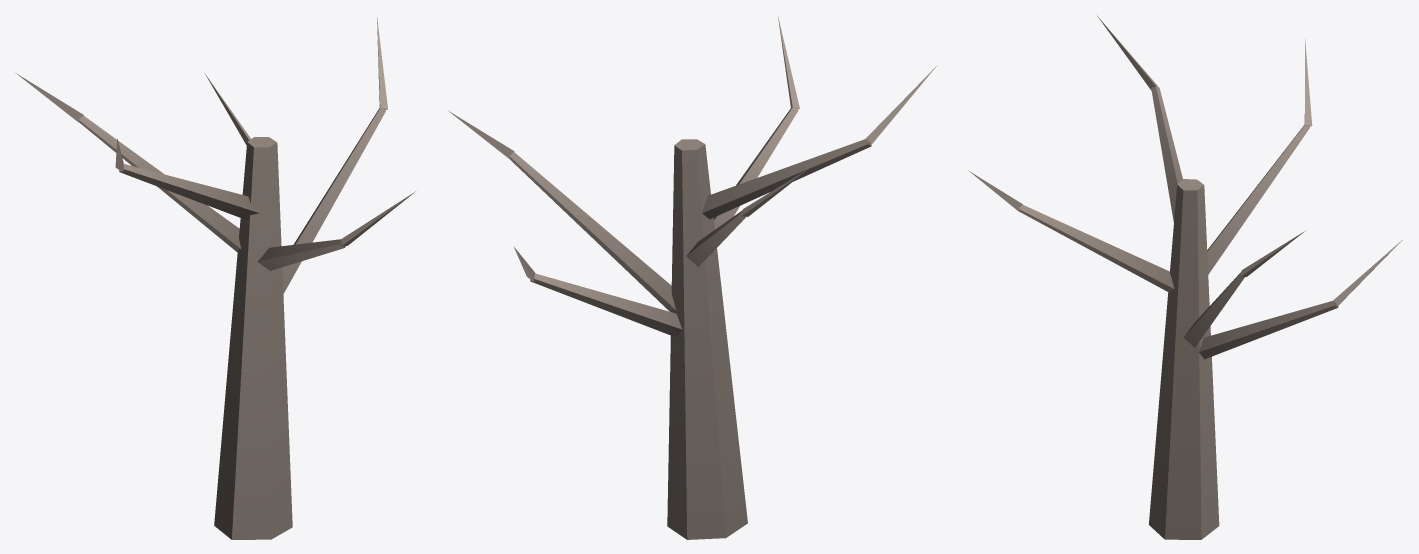
Rendered from dead_tree.glb.
The picture shows the model from 3 angles, left to right: view 1: azimuth 30°, elevation 25°; view 2: azimuth 150°, elevation 25°; view 3: azimuth 270°, elevation 25°; orthographic projection. The views are drawn at different scales.
Parts seen in each view (by area): view 1: dead_tree; view 2: dead_tree; view 3: dead_tree.
Part boxes in pixels (bbox=[...]): dead_tree: bbox=[16, 17, 415, 539]; dead_tree: bbox=[448, 16, 937, 539]; dead_tree: bbox=[968, 16, 1402, 539].
Size of the model in its own units: 2.8 by 3.36 by 3.09.
